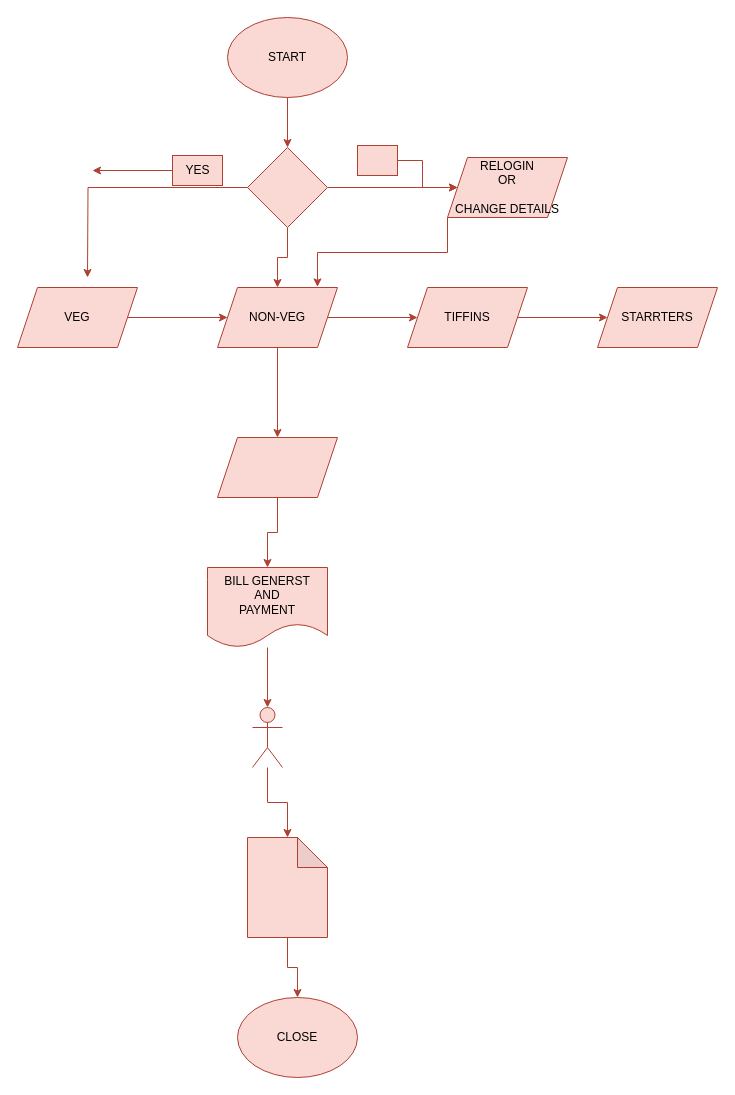
Image size: 735x1095. Some labels were removed from this diagram. Each missing label, with the centre of its shape:
"Actor" belongs at (267,737).
"FEEDBACK" belongs at (287,887).
"LOGINN" belongs at (287,187).
"NO" belongs at (377,160).
"ORDER" belongs at (277,467).
